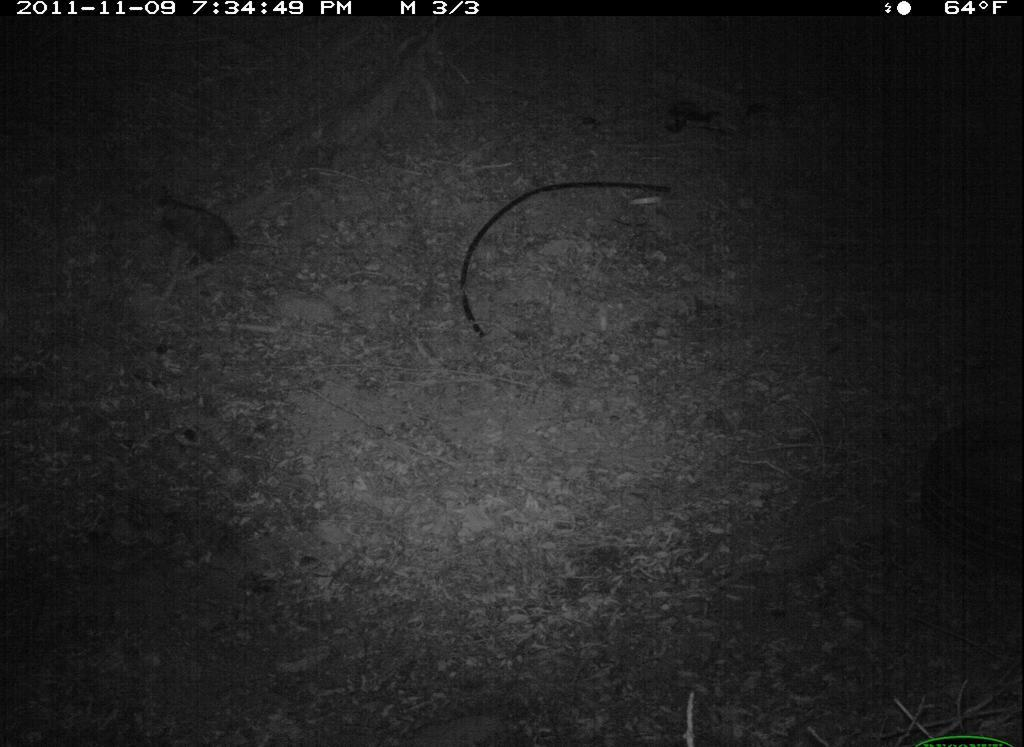opossum: (139, 187, 253, 280)
